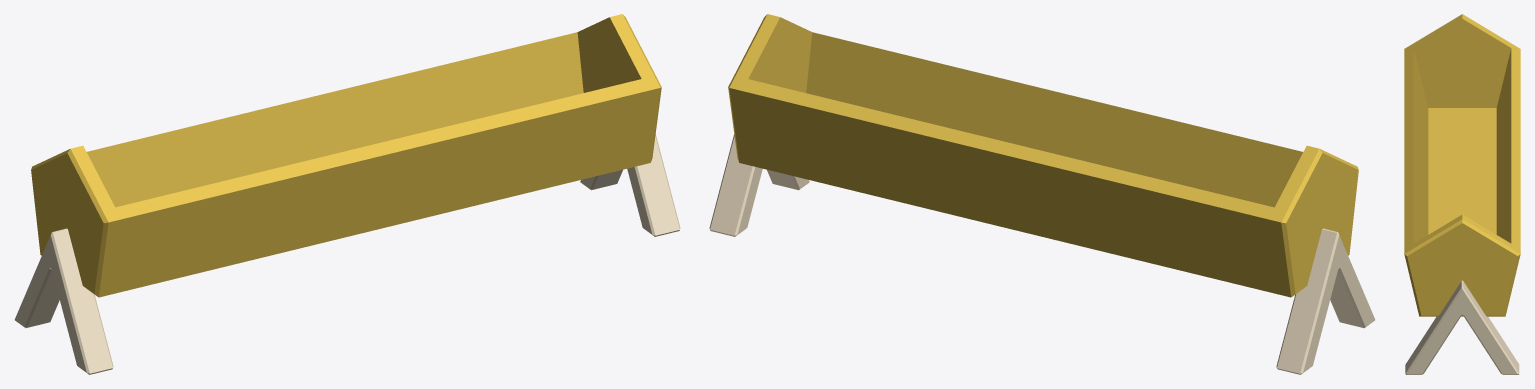
The model's file is littlefoodholder_b.gltf.
The picture shows the model from 3 angles, left to right: view 1: azimuth 30°, elevation 25°; view 2: azimuth 150°, elevation 25°; view 3: azimuth 270°, elevation 25°; orthographic projection. The views are drawn at different scales.
Parts seen in each view (by area): view 1: littlefoodholder_b001; view 2: littlefoodholder_b001; view 3: littlefoodholder_b001.
Boxes of the visible parts, x1=… form: littlefoodholder_b001: x1=14, y1=14, x2=680, y2=374; littlefoodholder_b001: x1=709, y1=14, x2=1375, y2=374; littlefoodholder_b001: x1=1404, y1=14, x2=1520, y2=374.
Bounding box in the file's own units: 1.59 × 0.498 × 0.3539.
1 material, 1 textured.
